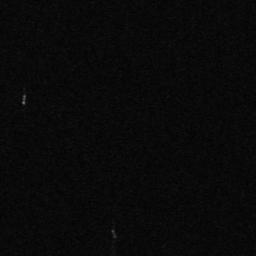ship: (20, 94, 29, 105), (109, 229, 117, 240)
